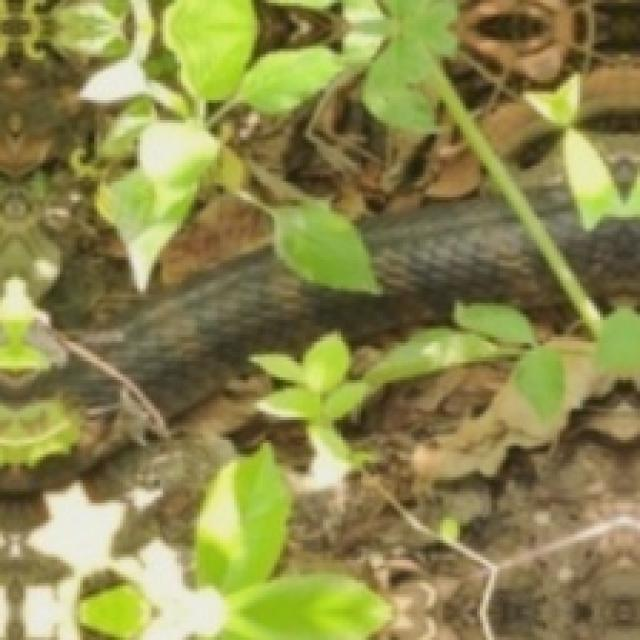king cobra: (75, 200, 572, 421), (535, 191, 640, 302), (0, 419, 125, 491), (34, 359, 116, 409)
